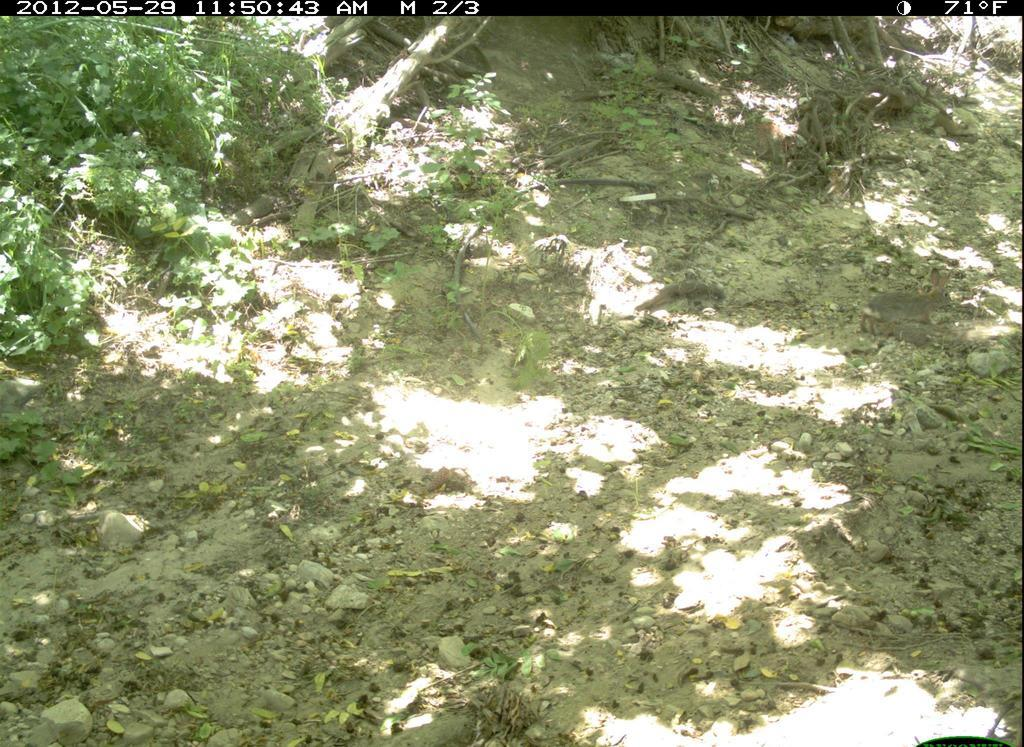rabbit: (855, 259, 961, 346)
